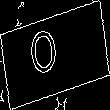O_S: (38, 25, 72, 85)
